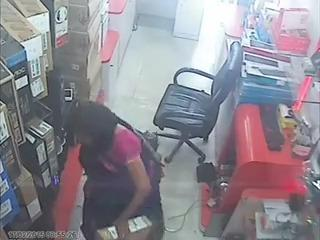shoplifting: (70, 88, 170, 240)
